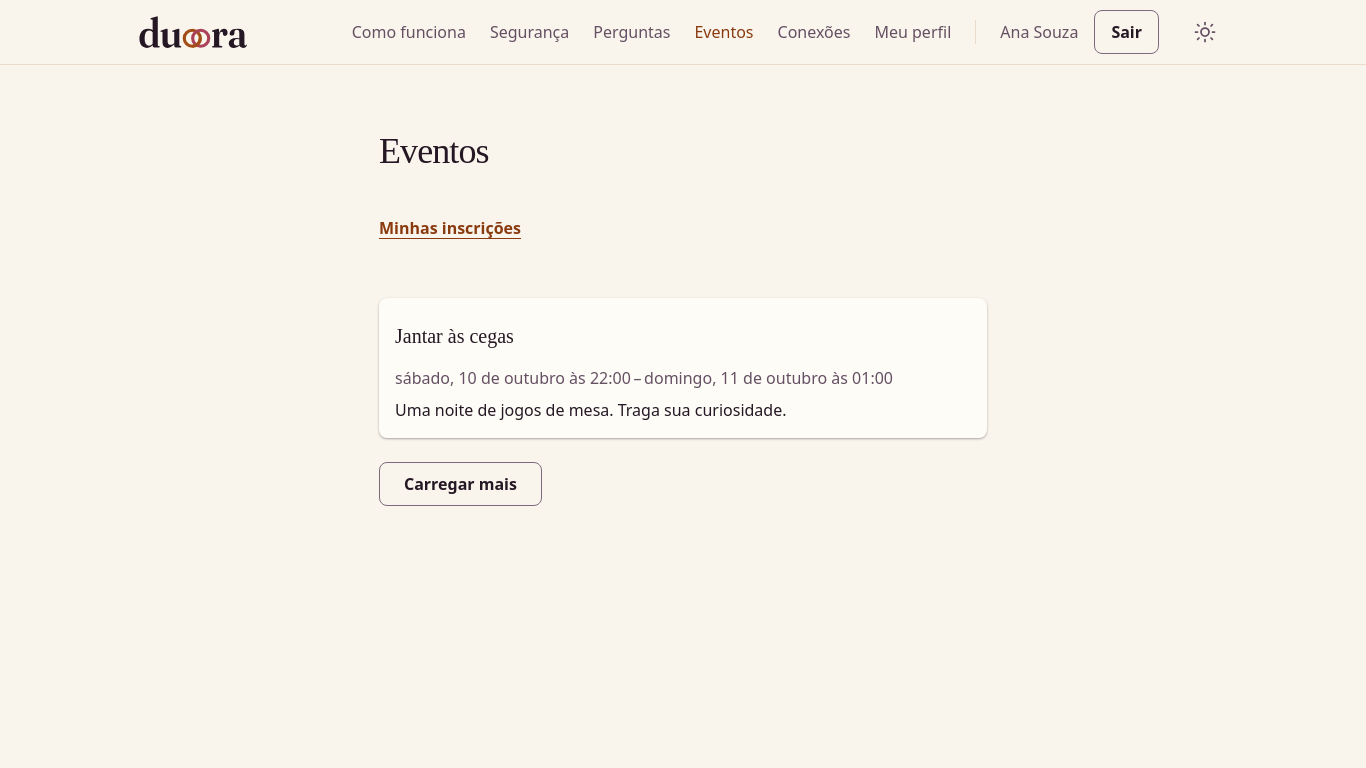
it: events page › keeps the loaded events and offers to try again when the next page fails
Click the button "Carregar mais". click: point(460, 484)
box: top-left (379, 462), bottom-right (542, 506)
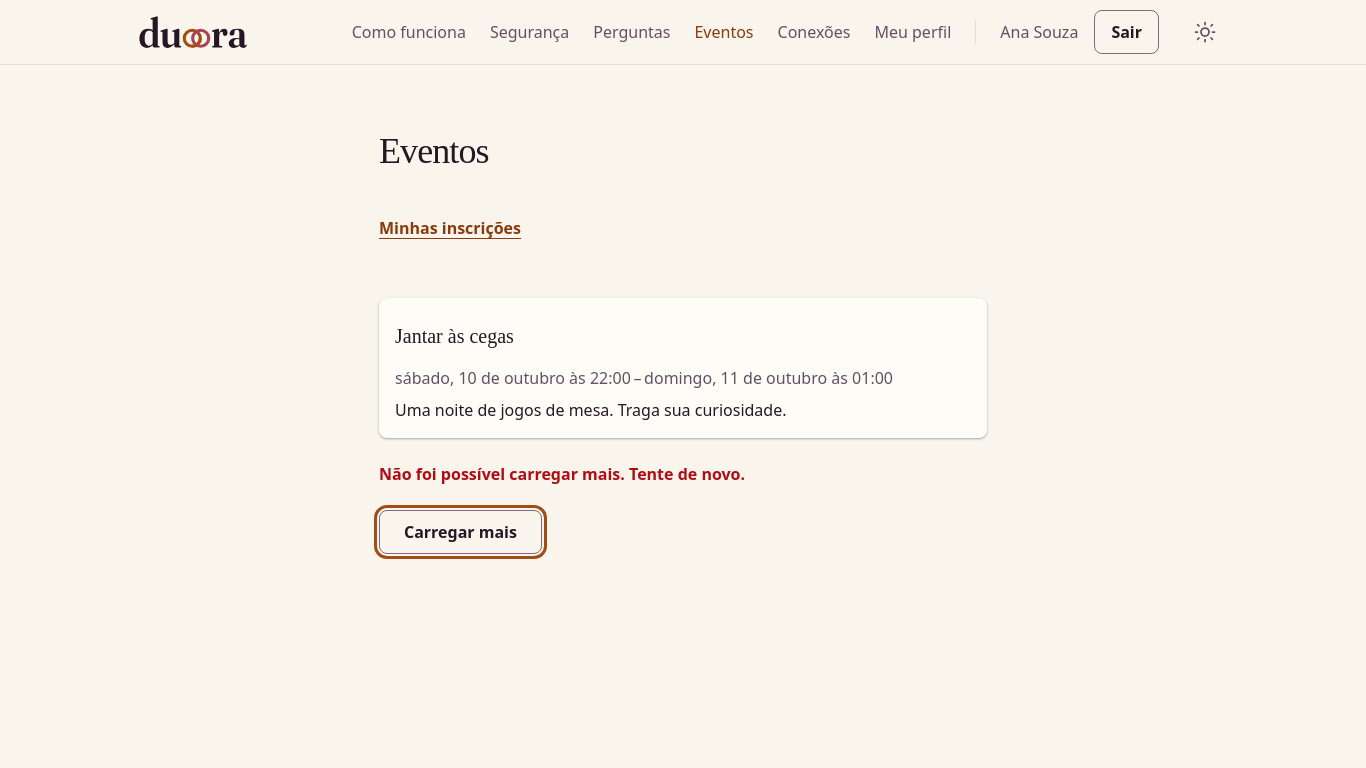
Expected: the link "Jantar às cegas" is shown, top-left (395, 325), bottom-right (514, 347)
Expected: the message reads "Não foi possível carregar mais. Tente de novo.", top-left (379, 463), bottom-right (745, 485)
Click the button "Carregar mais". click: point(460, 532)
box: top-left (379, 510), bottom-right (542, 554)
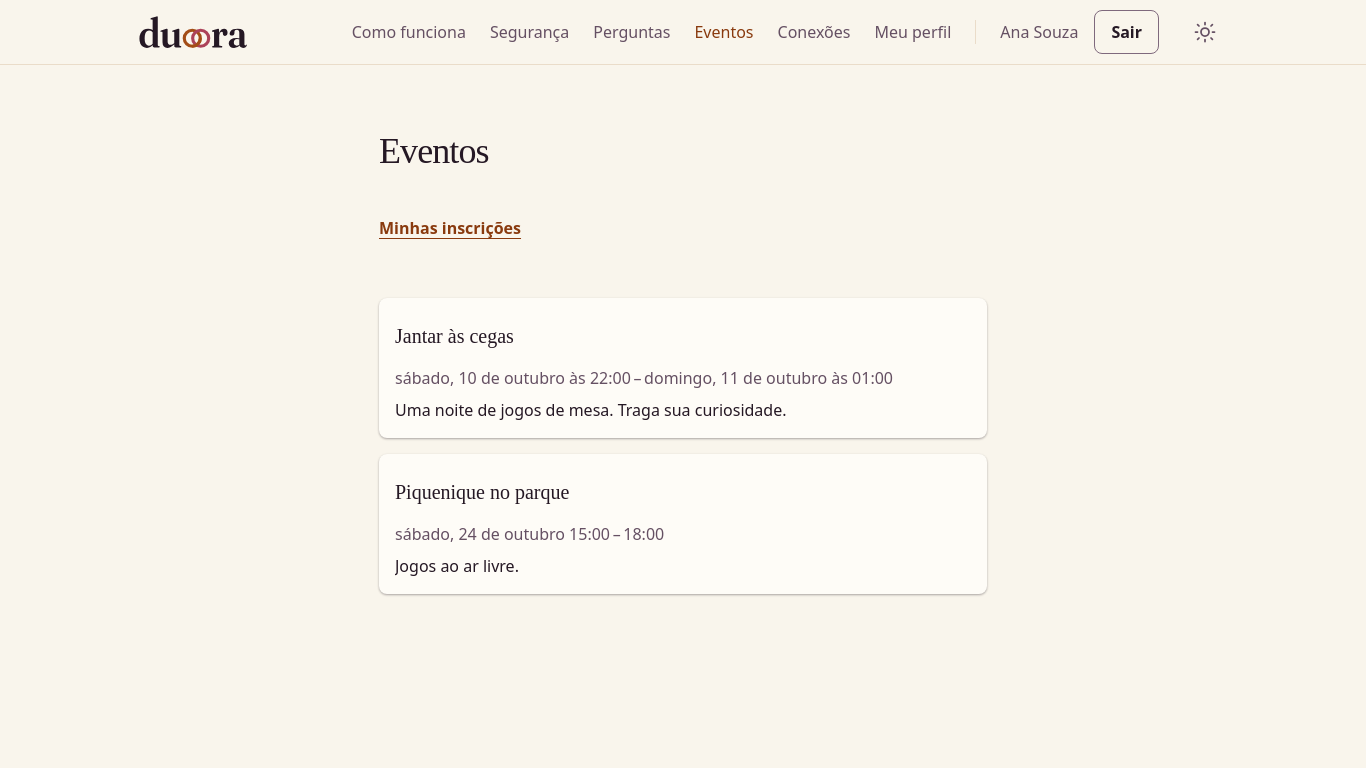
Expected: the link "Piquenique no parque" is shown, top-left (395, 481), bottom-right (569, 503)
Expected: the message "Não foi possível carregar mais. Tente de novo." is gone
